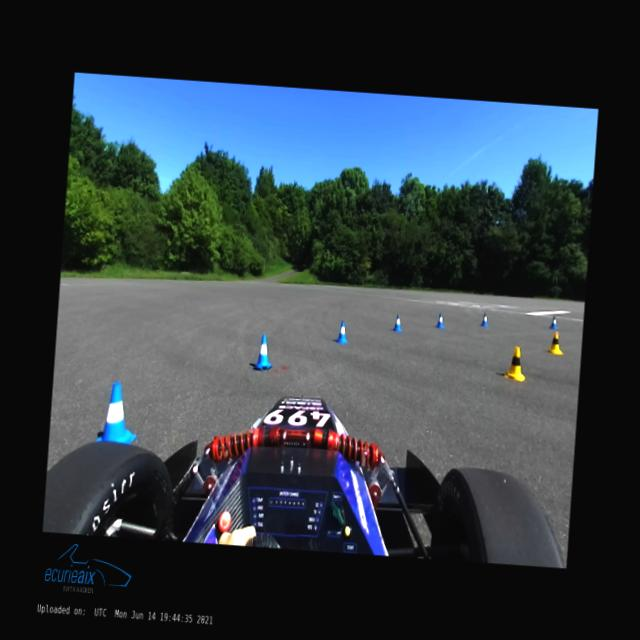blue_cone: (96, 380, 140, 444), (254, 334, 273, 370), (336, 320, 348, 344), (392, 313, 402, 332), (436, 313, 445, 328), (550, 315, 558, 329), (481, 312, 488, 326)
yellow_cone: (504, 344, 527, 380), (547, 330, 565, 356)
